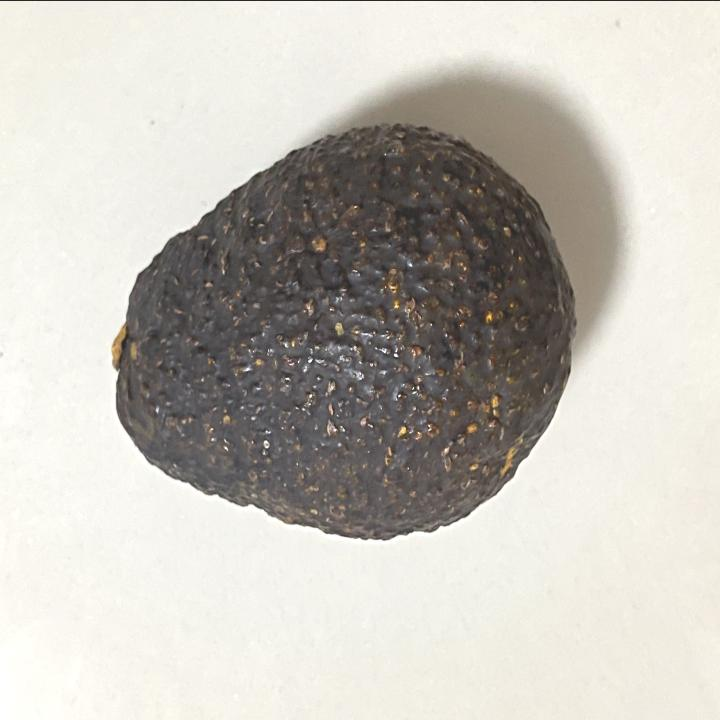Level3: (102, 107, 583, 557)
